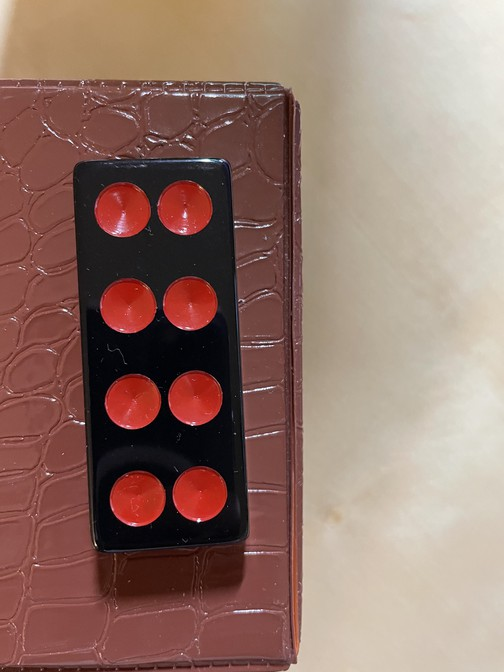man: (74, 163, 249, 551)
